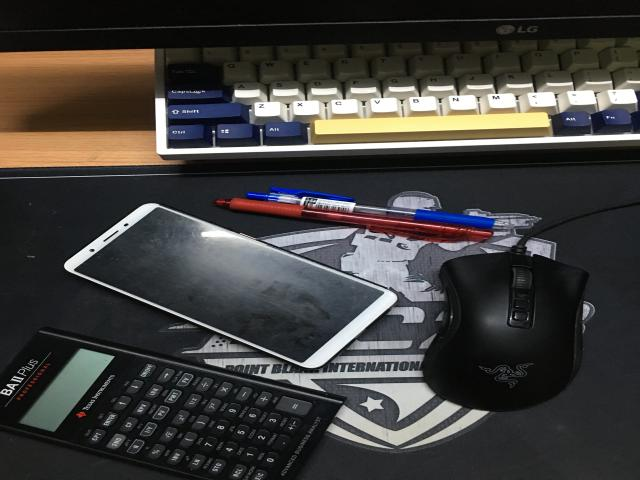Mobile phone: (63, 203, 398, 369)
Mouse: (422, 200, 640, 411)
Pen: (204, 185, 516, 240)
